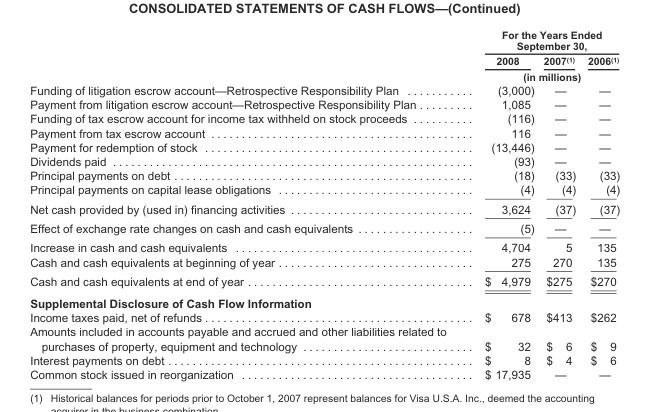table: (29, 28, 619, 380)
table column: (29, 28, 464, 380), (464, 28, 538, 380), (538, 28, 581, 380), (581, 28, 619, 380)
table column header: (29, 28, 619, 82)
table projected row header: (29, 291, 619, 310)
table row: (29, 324, 619, 352), (29, 28, 619, 52), (29, 198, 619, 218), (29, 271, 619, 291), (29, 218, 619, 237), (29, 291, 619, 310), (29, 237, 619, 254), (29, 254, 619, 271), (29, 52, 619, 68), (29, 182, 619, 198), (29, 96, 619, 111), (29, 167, 619, 182), (29, 68, 619, 82), (29, 82, 619, 96), (29, 111, 619, 125), (29, 125, 619, 139), (29, 139, 619, 153), (29, 153, 619, 167), (29, 310, 619, 324), (29, 352, 619, 366), (29, 366, 619, 380)
table spanning cell: (464, 28, 619, 52), (464, 68, 619, 82)
